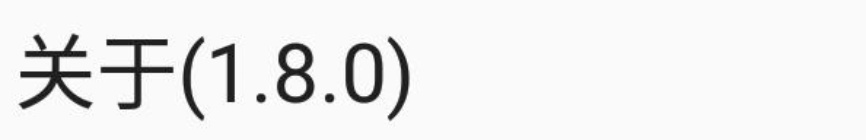TextView: (1, 1, 865, 139)
